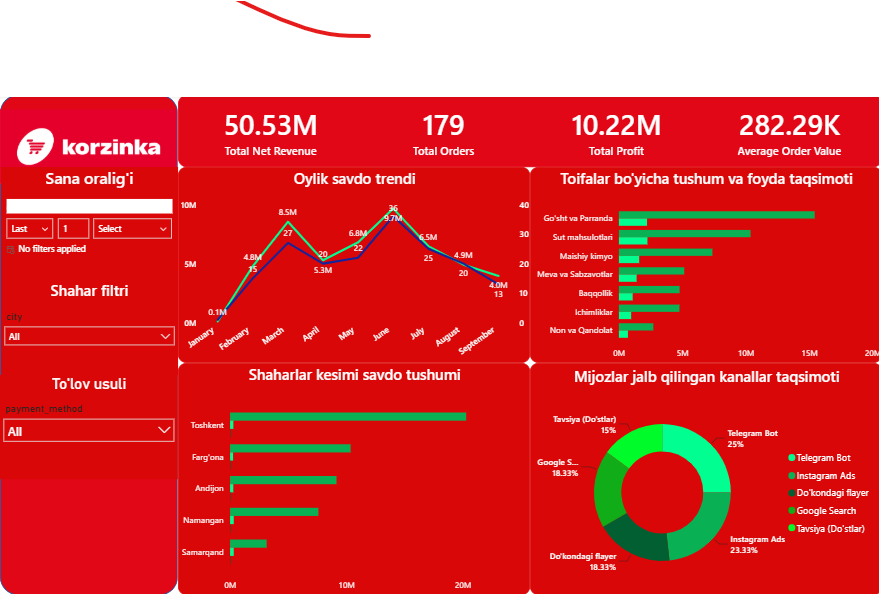

Layout of this report page (visuals, bound fields, positions):
{"tool":"powerbi","page":{"name":"Page 1","canvas":[1280,720],"ordinal":0},"visuals":[{"type":"shape","box":[10.2,0,256.1,720],"z":0},{"type":"image","box":[10.2,19,254.6,111.2],"z":1000},{"type":"cardVisual","fields":{"Data":["public customers.Total Net Revenue","public customers.Total Orders","public customers.Total Profit","public customers.Average Order Value"]},"box":[266.3,0,1014.1,103.9],"z":2000},{"type":"lineChart","title":"Oylik savdo trendi","fields":{"Category":["public orders.order_date.Variation.Date Hierarchy.Month"],"Y":["public customers.Total Net Revenue"],"Y2":["public customers.Total Orders"]},"box":[266.4,103.7,506.9,282.2],"z":3000},{"type":"clusteredBarChart","title":"Toifalar bo''yicha tushum va foyda taqsimoti","fields":{"Category":["public products.category"],"Y":["public customers.Total Net Revenue","public customers.Total Profit"]},"box":[773.3,103.7,506.9,282.2],"z":4000},{"type":"clusteredBarChart","title":"Shaharlar kesimi savdo tushumi","fields":{"Category":["public customers.city"],"Y":["public customers.Total Net Revenue","public customers.Average Order Value","public customers.Total Orders"]},"box":[266.4,385.9,506.9,334.1],"z":5000},{"type":"donutChart","title":"Mijozlar jalb qilingan kanallar taqsimoti","fields":{"Category":["public customers.acquisition_channel"],"Y":["Count(public customers.customer_id)"]},"box":[773,386,507,334],"z":5001},{"type":"slicer","title":"Sana oralig''i","fields":{"Values":["public orders.order_date"]},"box":[11.5,103.7,254.9,162.7],"z":5002},{"type":"slicer","title":"Shahar filtri","fields":{"Values":["public customers.city"]},"box":[11.5,266.4,254.9,136.8],"z":5003},{"type":"slicer","title":"To''lov usuli","fields":{"Values":["public orders.payment_method"]},"box":[10.1,403.2,256.3,149.8],"z":5004}]}

Visuals, with their boxes on the page's 1280x720 design canvas (x1, y1, x2, y2). These are canvas units, not pixel positions in the 879x594 screenshot, which may show the page scaled, cropped or inside an application window:
shape: locate(10, 0, 266, 720)
image: locate(10, 19, 265, 130)
cardVisual - public customers.Total Net Revenue x public customers.Total Orders: locate(266, 0, 1280, 104)
"Oylik savdo trendi" lineChart: locate(266, 104, 773, 386)
"Toifalar bo''yicha tushum va foyda taqsimoti" clusteredBarChart: locate(773, 104, 1280, 386)
"Shaharlar kesimi savdo tushumi" clusteredBarChart: locate(266, 386, 773, 720)
"Mijozlar jalb qilingan kanallar taqsimoti" donutChart: locate(773, 386, 1280, 720)
"Sana oralig''i" slicer: locate(12, 104, 266, 266)
"Shahar filtri" slicer: locate(12, 266, 266, 403)
"To''lov usuli" slicer: locate(10, 403, 266, 553)
